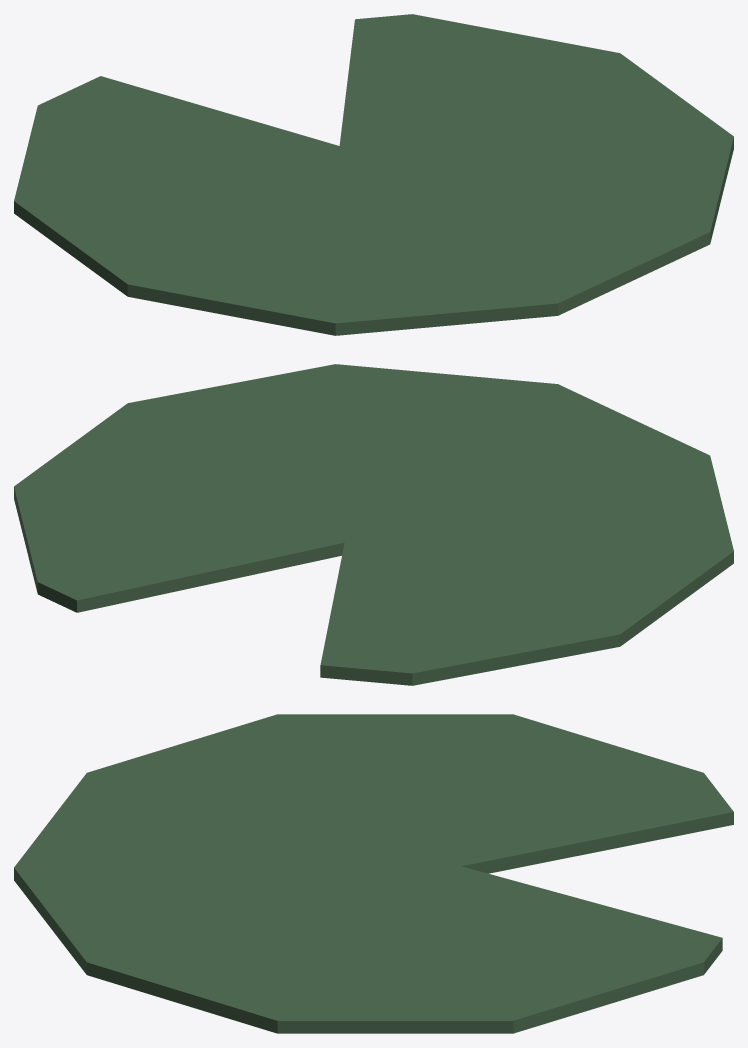
File: lilypadLeaf.glb
The picture shows the model from 3 angles, top to bottom: view 1: azimuth 30°, elevation 25°; view 2: azimuth 150°, elevation 25°; view 3: azimuth 270°, elevation 25°; orthographic projection. The views are drawn at different scales.
Visible parts, largest first — view 1: LilyPadLeaf.001; view 2: LilyPadLeaf.001; view 3: LilyPadLeaf.001.
Boxes of the visible parts, x1,y1,x2,y2 form: LilyPadLeaf.001: (14,14,733,335); LilyPadLeaf.001: (14,364,733,685); LilyPadLeaf.001: (14,714,733,1033).
Size of the model in its own units: 0.9148 by 0.0179 by 0.908.
Materials: 1 (1 with a texture image).
